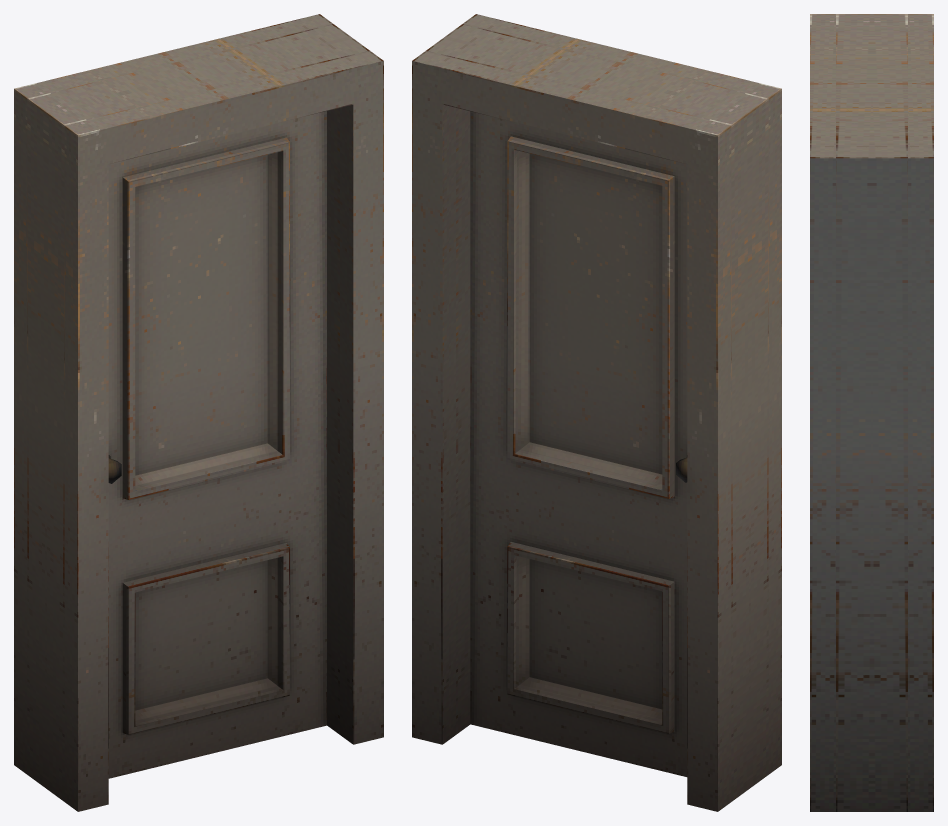
The model's file is door.fbx.
3 renders of one model, left to right at view 1: azimuth 30°, elevation 25°; view 2: azimuth 150°, elevation 25°; view 3: azimuth 270°, elevation 25°, orthographic. The views are drawn at different scales.
Visible parts, largest first — view 1: door_room, door_room_arc; view 2: door_room, door_room_arc; view 3: door_room_arc.
Boxes of the visible parts, x1,y1,x2,y2 form: door_room: (108, 111, 326, 778); door_room_arc: (14, 14, 383, 811); door_room: (470, 111, 687, 776); door_room_arc: (412, 14, 781, 811); door_room_arc: (810, 14, 933, 811).
Size of the model in its own units: 100 by 211 by 36.29.
1 material, 1 textured.
